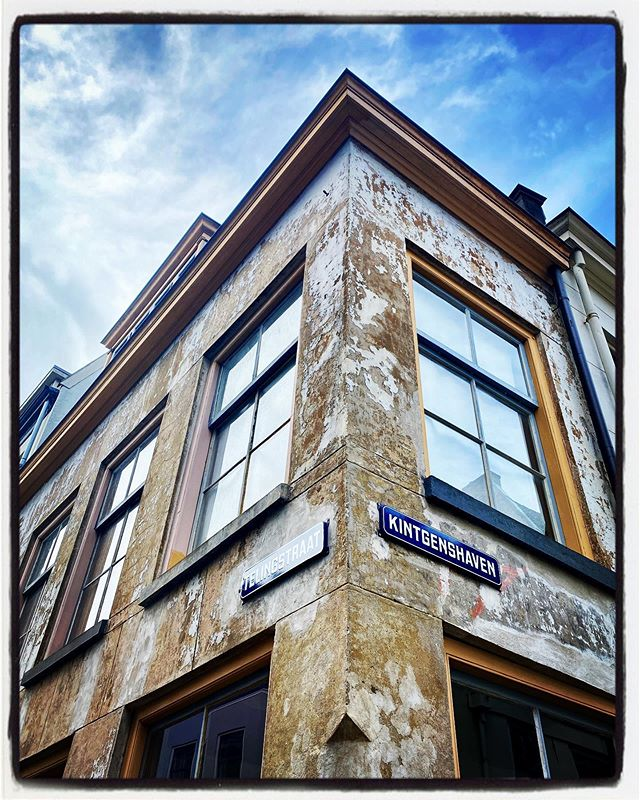building: (49, 200, 621, 765)
sky: (7, 22, 603, 341)
